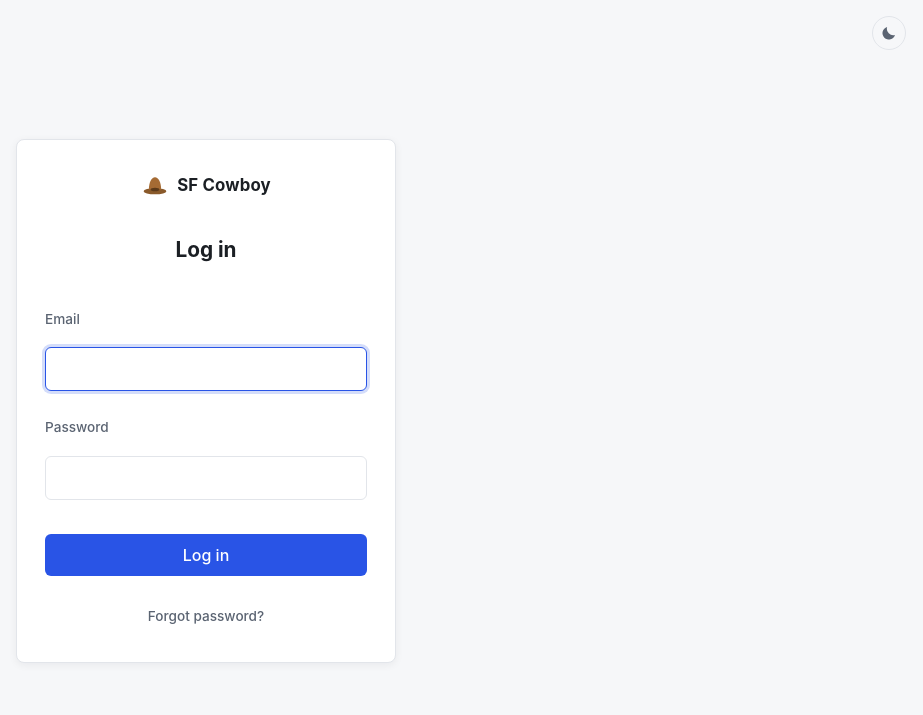
Scenario: Login › shows the server's error message on failed login
This screenshot has width=923, height=715.
Step 1. Type "a@example.com" into the field labelled "Email" → (206, 369), box 45,347 -> 367,391
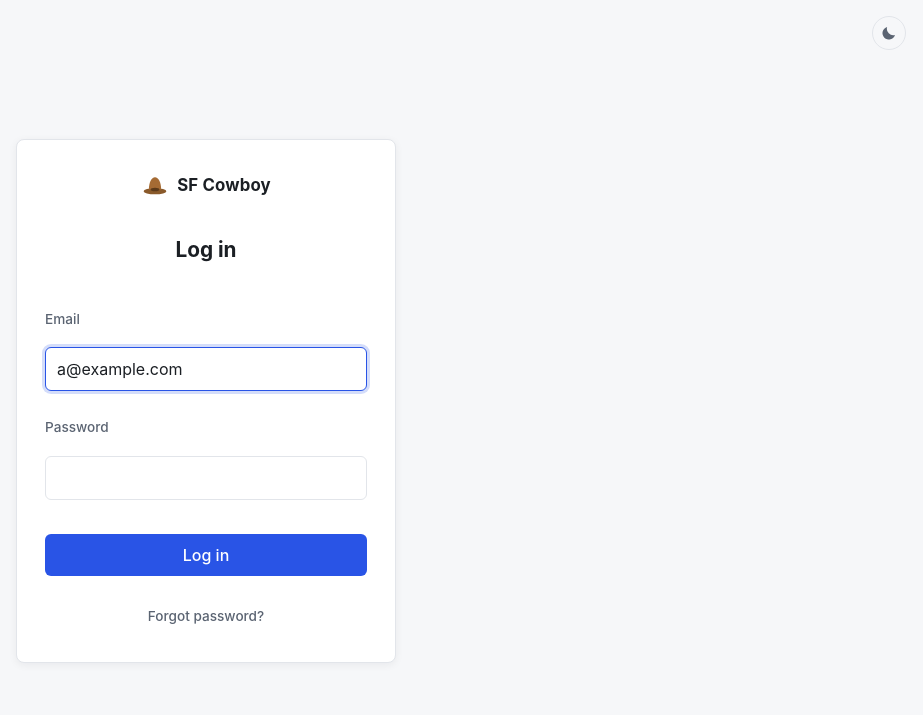
Step 2. Type "wrong" into the password field labelled "Password" → (206, 478), box 45,456 -> 367,500
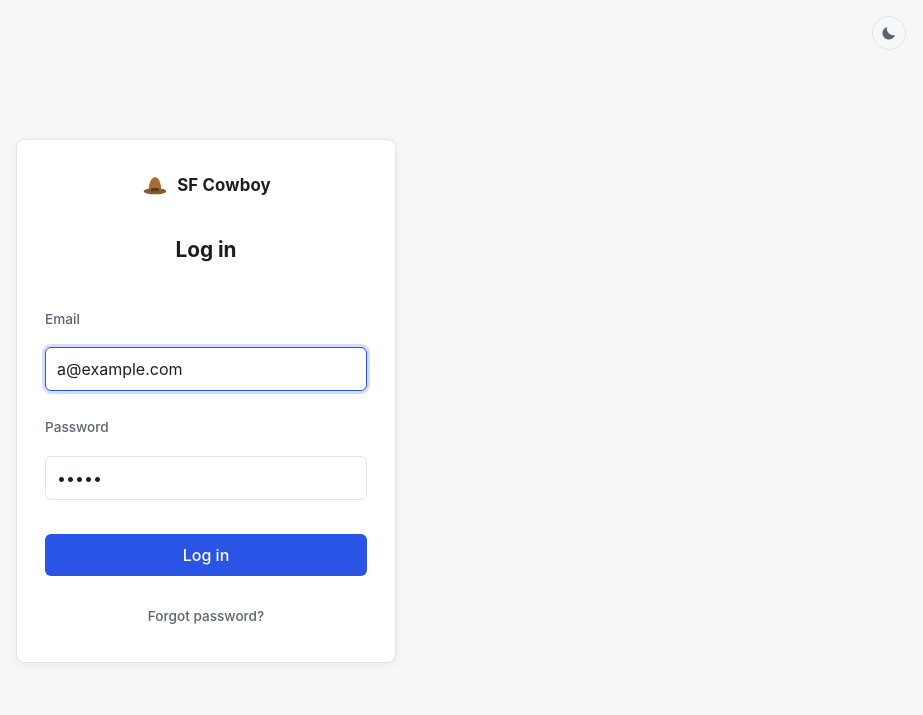
Step 3. Click the button "Log in" → click(206, 555), box 45,534 -> 367,576
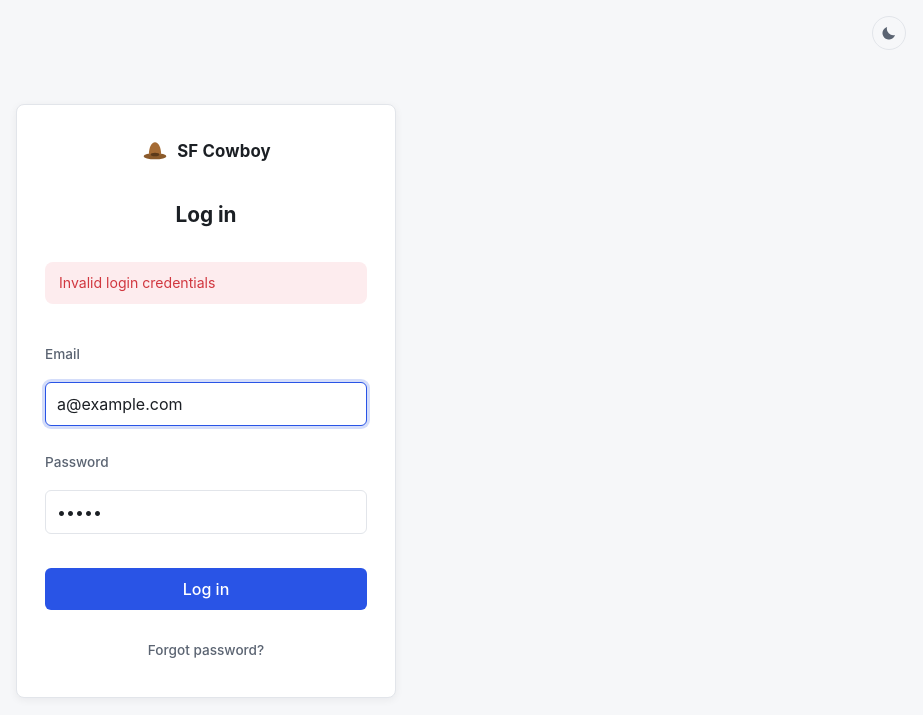
Now the text "Invalid login credentials" is shown, box 45,262 -> 367,304
